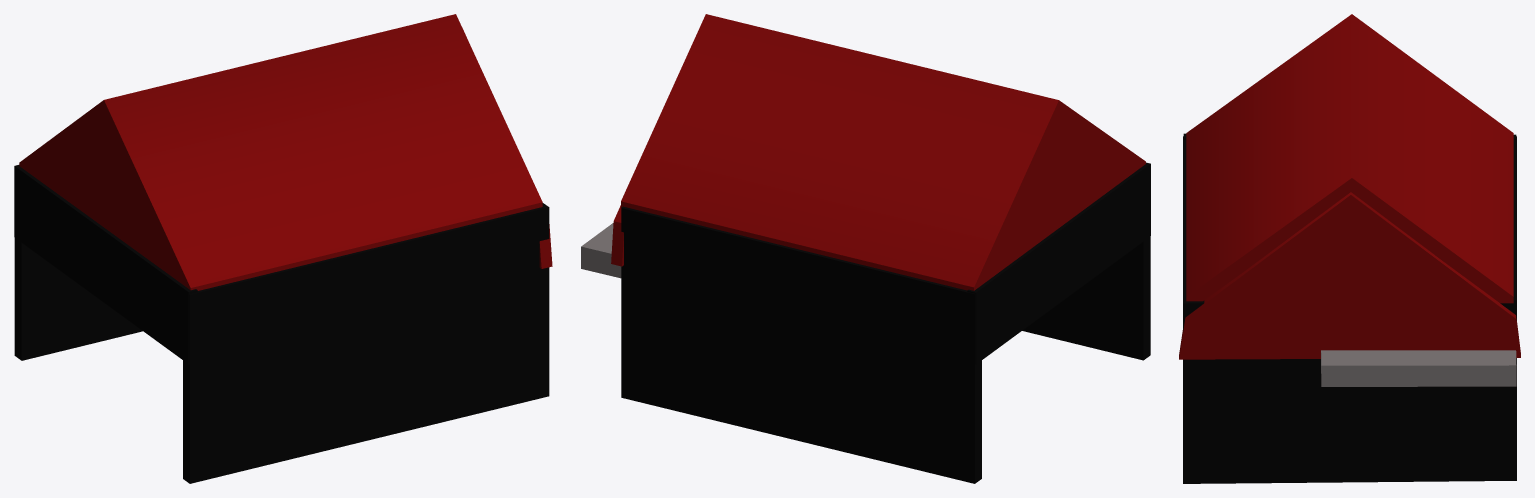
Rendered from House9.FBX.
3 renders of one model, left to right at view 1: azimuth 30°, elevation 25°; view 2: azimuth 150°, elevation 25°; view 3: azimuth 270°, elevation 25°, orthographic. The views are drawn at different scales.
Visible parts, largest first — view 1: House9; view 2: House9; view 3: House9.
Part boxes in pixels (bbox=[...]): House9: bbox=[14, 14, 552, 483]; House9: bbox=[581, 14, 1150, 483]; House9: bbox=[1179, 14, 1520, 483].
Size of the model in its own units: 1195 by 940 by 938.
